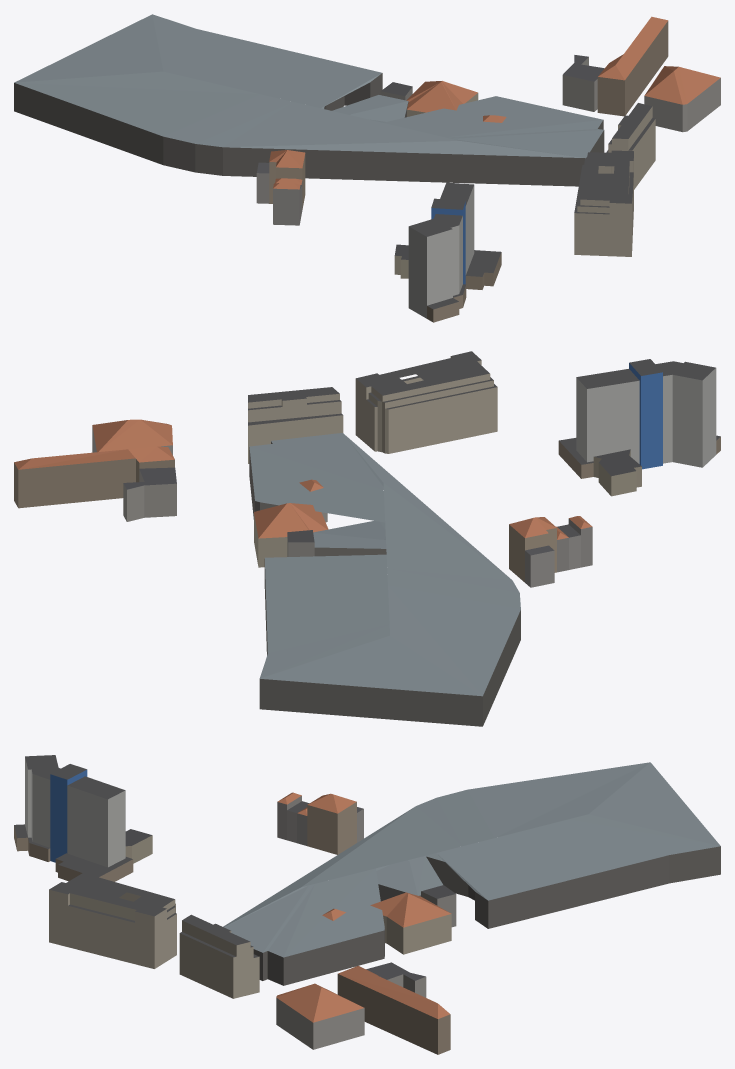
Rendered from 6_-2.far.glb.
3 renders of one model, top to bottom at view 1: azimuth 30°, elevation 25°; view 2: azimuth 150°, elevation 25°; view 3: azimuth 270°, elevation 25°, orthographic. The views are drawn at different scales.
Parts seen in each view (by area): view 1: 6_-2_far; view 2: 6_-2_far; view 3: 6_-2_far.
Part boxes in pixels (x1,y1,x2,y2): 6_-2_far: [14, 14, 720, 322]; 6_-2_far: [14, 351, 720, 726]; 6_-2_far: [14, 755, 720, 1054].
Size of the model in its own units: 330 by 50.51 by 373.
